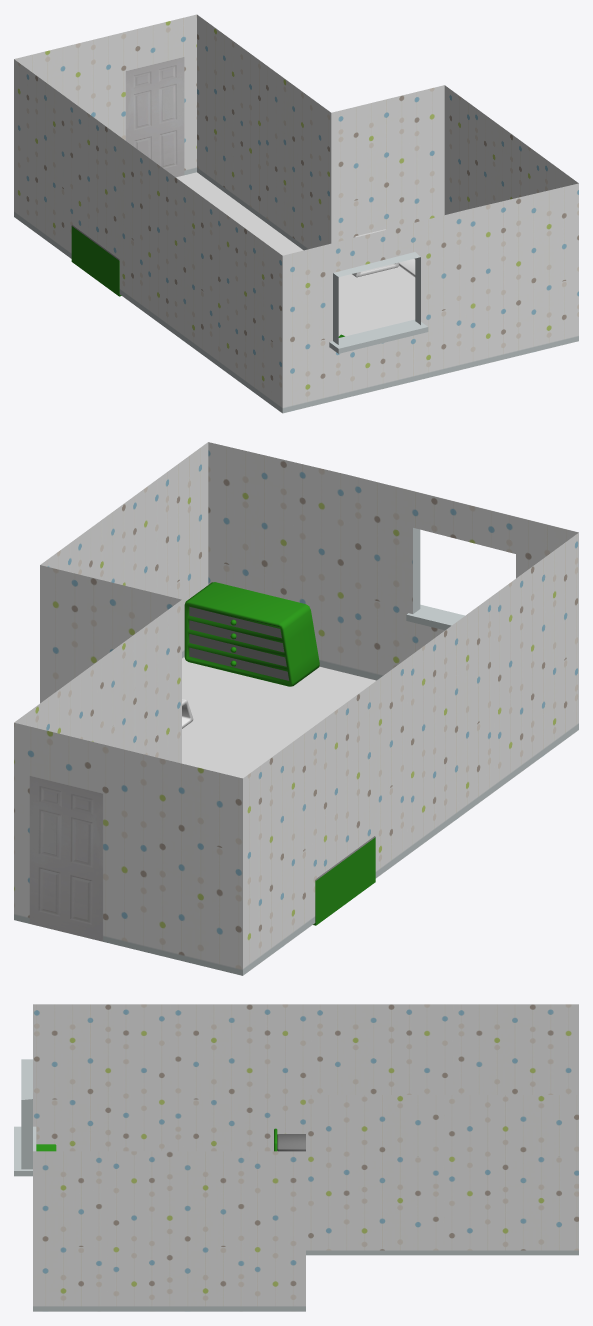
The model's file is room.FBX.
The picture shows the model from 3 angles, top to bottom: view 1: azimuth 30°, elevation 25°; view 2: azimuth 150°, elevation 25°; view 3: azimuth 270°, elevation 25°; orthographic projection. The views are drawn at different scales.
Parts seen in each view (by area): view 1: Wall, Floor, Kiste; view 2: Wall, Floor, Komode, Kiste; view 3: Wall, Tisch.
Boxes of the visible parts, x1,y1,x2,y2 form: Wall: (14, 14, 578, 413); Floor: (176, 172, 415, 336); Kiste: (71, 225, 121, 296); Wall: (14, 442, 578, 975); Floor: (182, 657, 376, 778); Komode: (184, 582, 319, 686); Kiste: (313, 836, 375, 925); Wall: (14, 1004, 578, 1311); Tisch: (274, 1128, 305, 1151).
Bounding box in the file's own units: 63.8 × 103 × 33.1.
